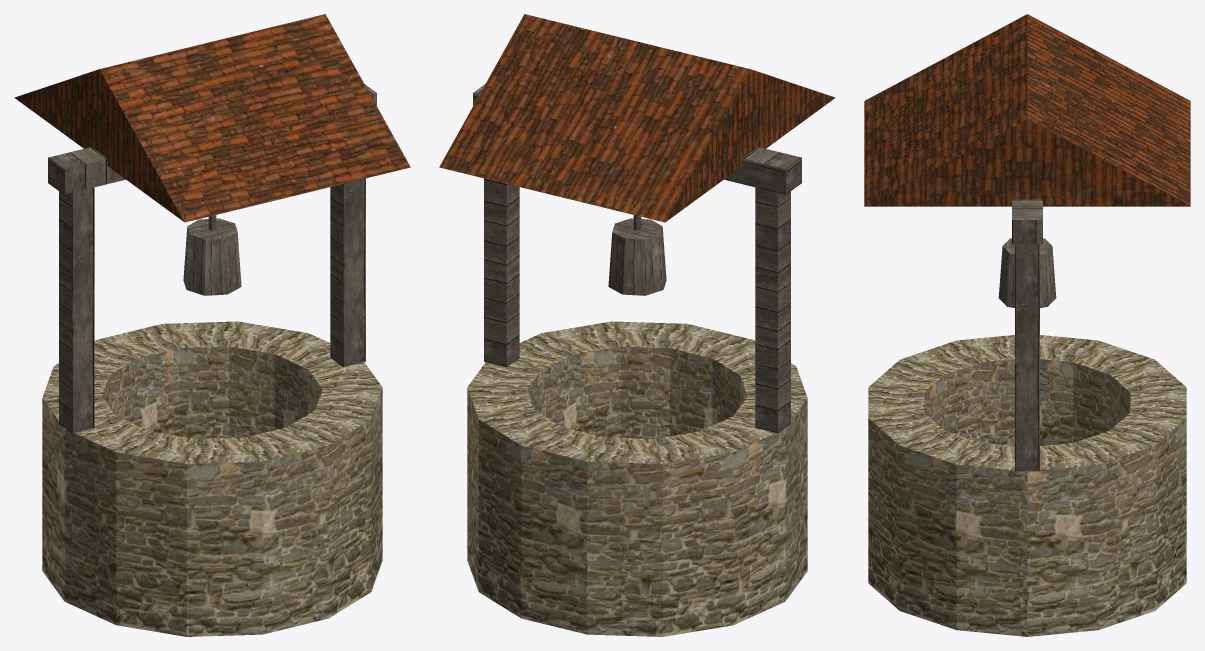
The model's file is well_01.glb.
3 renders of one model, left to right at view 1: azimuth 30°, elevation 25°; view 2: azimuth 150°, elevation 25°; view 3: azimuth 270°, elevation 25°, orthographic. The views are drawn at different scales.
Visible parts, largest first — view 1: well_01; view 2: well_01; view 3: well_01.
Boxes of the visible parts, x1,y1,x2,y2 form: well_01: [14, 14, 410, 636]; well_01: [439, 14, 835, 636]; well_01: [864, 14, 1190, 636].
Size of the model in its own units: 1.8 by 2.88 by 1.7.
Materials: 3 (3 with a texture image).
